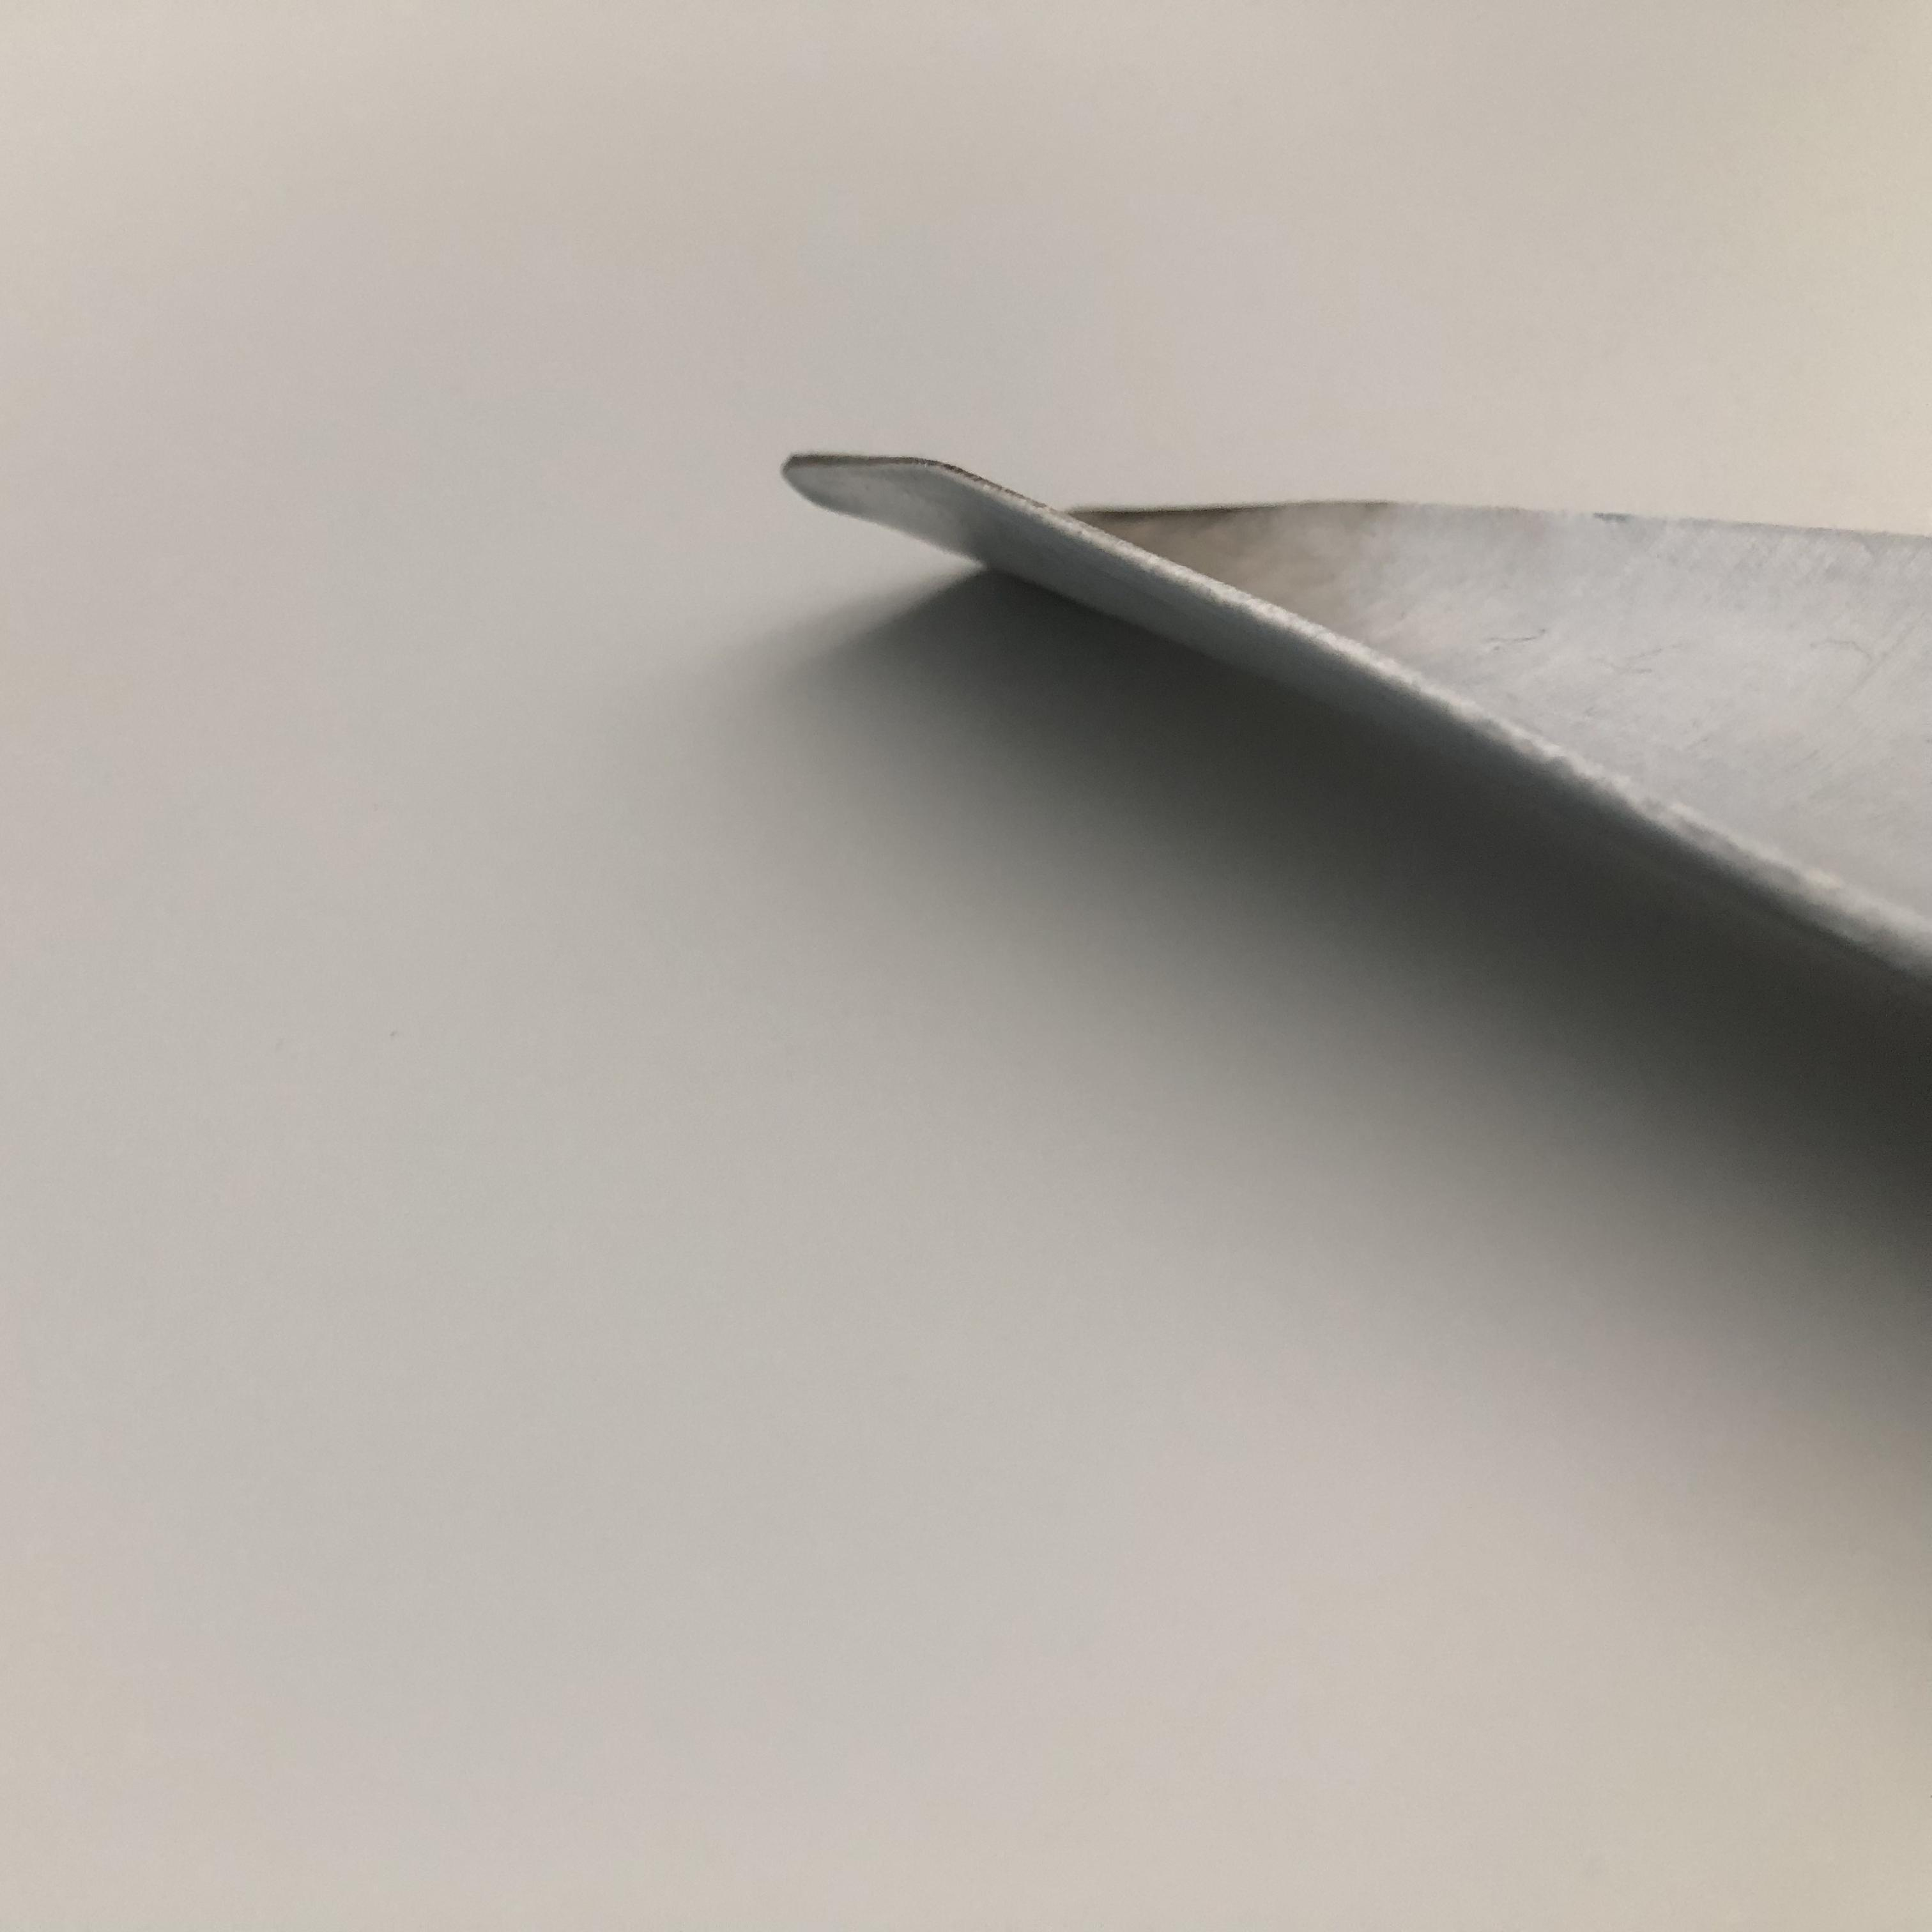ablation: (1033, 483, 1316, 575)
